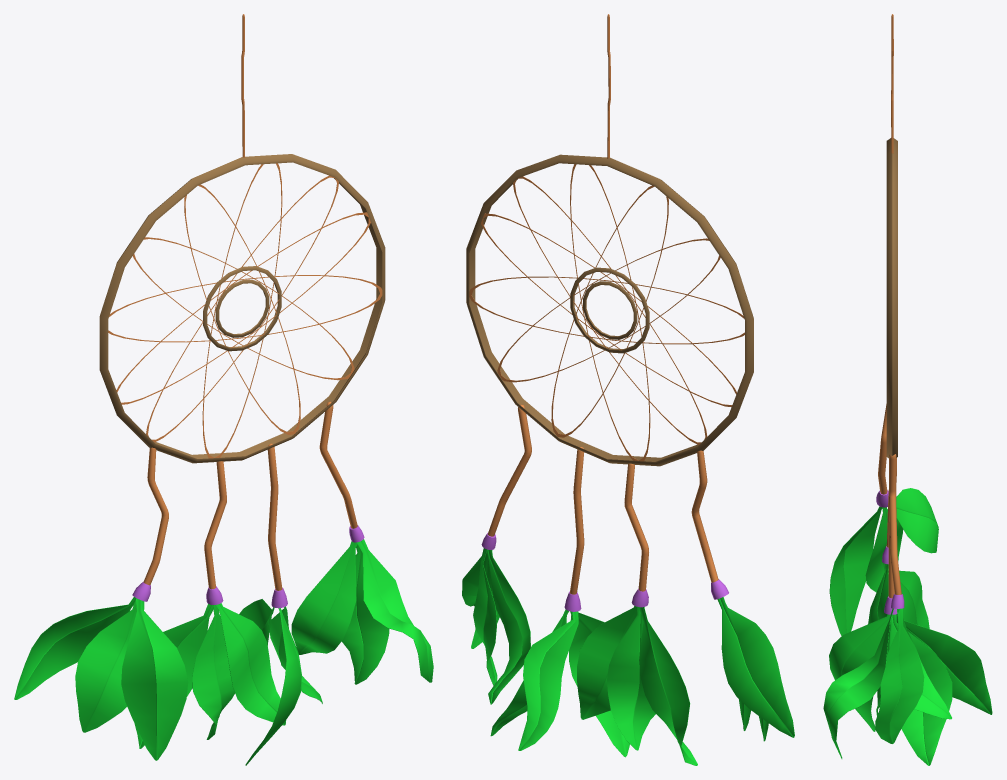
File: MANDALA.fbx
3 renders of one model, left to right at view 1: azimuth 30°, elevation 25°; view 2: azimuth 150°, elevation 25°; view 3: azimuth 270°, elevation 25°, orthographic. The views are drawn at different scales.
Parts seen in each view (by area): view 1: Plane.090; view 2: Plane.090; view 3: Plane.090.
Boxes of the visible parts, x1=… form: Plane.090: x1=14, y1=14, x2=433, y2=765; Plane.090: x1=462, y1=14, x2=794, y2=765; Plane.090: x1=823, y1=14, x2=992, y2=765.
Size of the model in its own units: 261 by 502 by 107.
